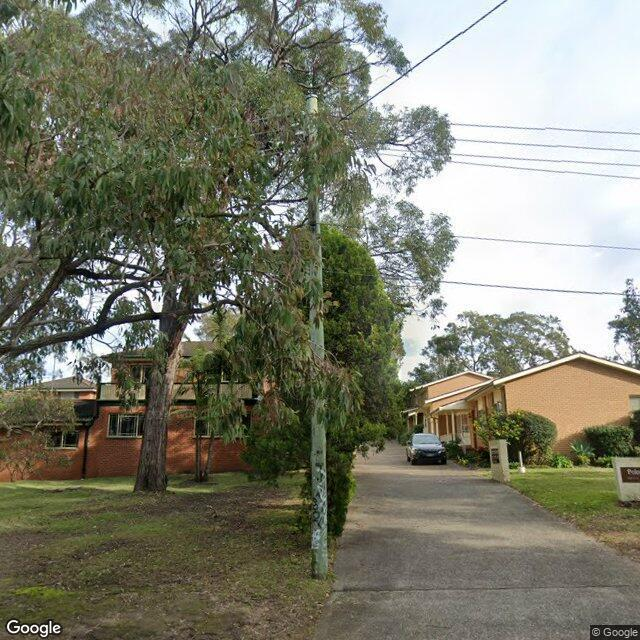timber-pole: (304, 82, 329, 580)
